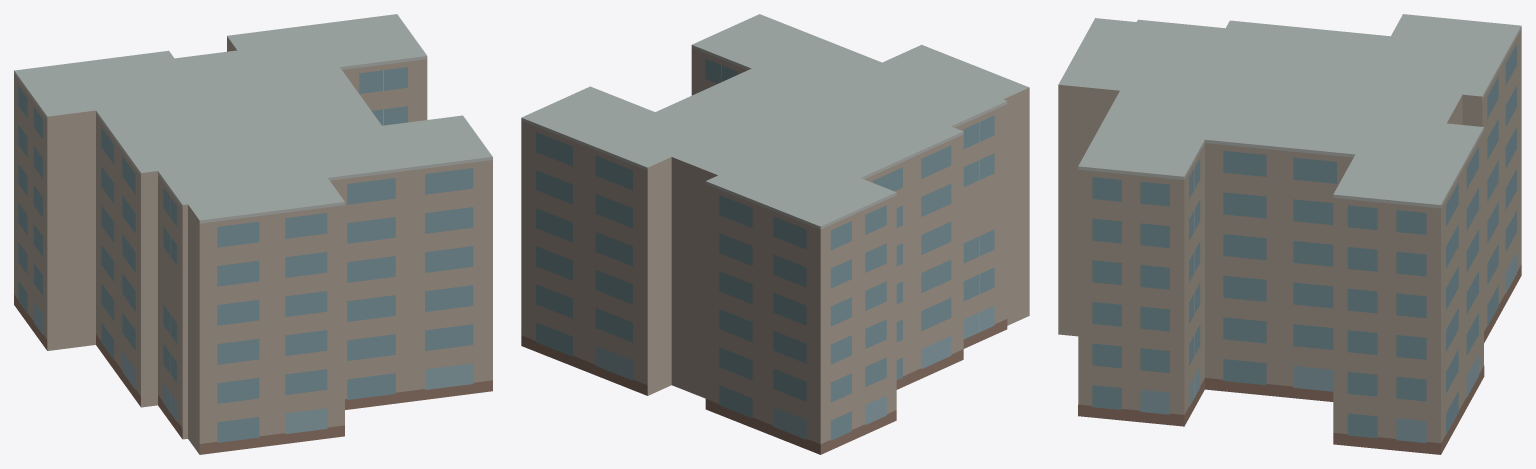
The model's file is survey-upis-33045002.glb.
3 renders of one model, left to right at view 1: azimuth 30°, elevation 25°; view 2: azimuth 150°, elevation 25°; view 3: azimuth 270°, elevation 25°, orthographic. The views are drawn at different scales.
Visible parts, largest first — view 1: survey-upis-33045002.tmp; view 2: survey-upis-33045002.tmp; view 3: survey-upis-33045002.tmp.
Part boxes in pixels (x1,y1,x2,y2): survey-upis-33045002.tmp: (14, 14, 492, 454); survey-upis-33045002.tmp: (521, 14, 1029, 454); survey-upis-33045002.tmp: (1058, 14, 1521, 454).
Bounding box in the file's own units: 30.12 × 18.35 × 30.86.
